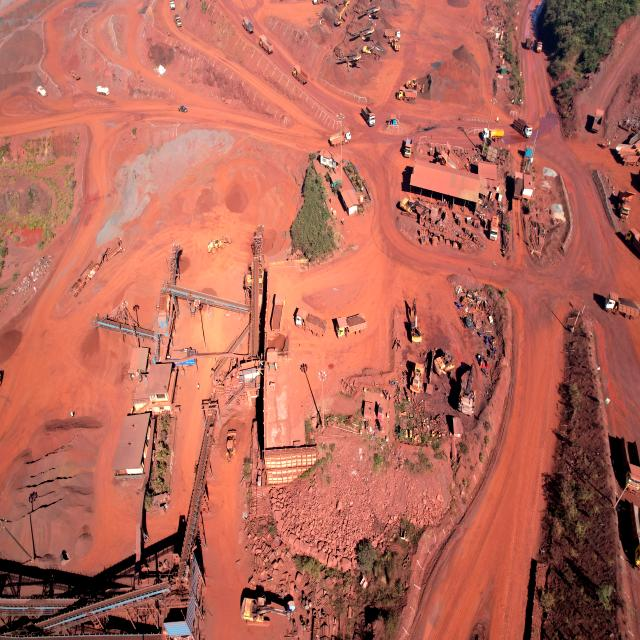Dumper truck: (295, 307, 326, 336), (336, 311, 366, 340), (272, 293, 286, 331), (333, 0, 351, 28), (329, 128, 351, 148), (618, 188, 632, 219), (446, 146, 462, 168), (515, 118, 532, 138), (403, 138, 418, 158), (436, 152, 461, 164), (362, 106, 376, 126), (397, 87, 417, 101), (260, 35, 274, 53), (622, 150, 640, 164), (592, 110, 602, 132), (603, 298, 618, 311), (242, 17, 254, 33), (624, 231, 638, 244), (292, 68, 304, 82), (614, 145, 632, 154), (386, 27, 400, 38), (403, 142, 412, 155), (174, 14, 182, 27), (526, 36, 532, 50), (536, 38, 542, 52)
Excavator: (239, 591, 293, 623), (456, 367, 479, 414), (399, 196, 430, 218), (406, 300, 422, 342), (429, 350, 453, 378), (363, 42, 382, 59), (426, 366, 434, 395)
car: (178, 105, 187, 112)
